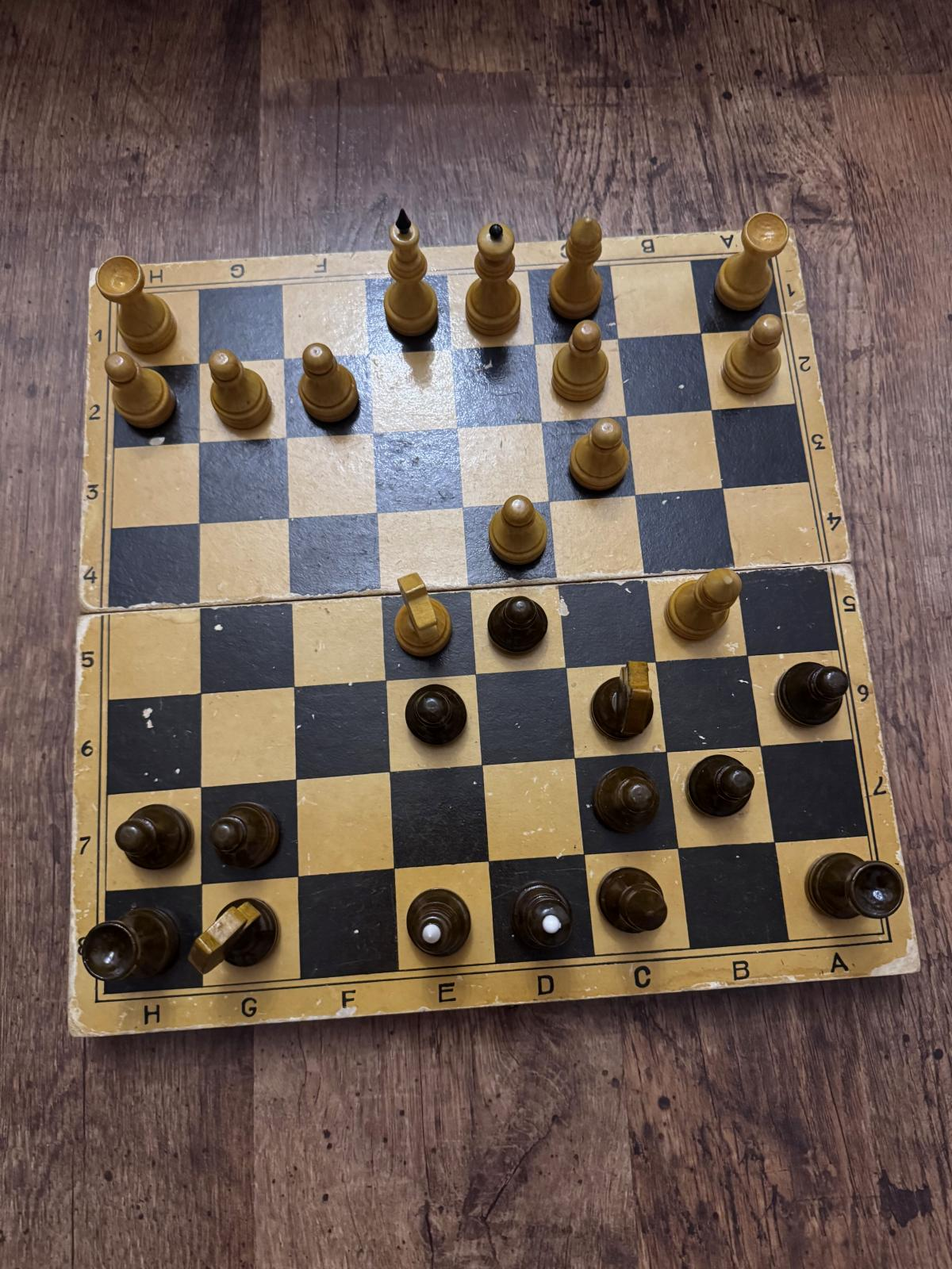Chess-Board: (104, 255, 884, 994)
